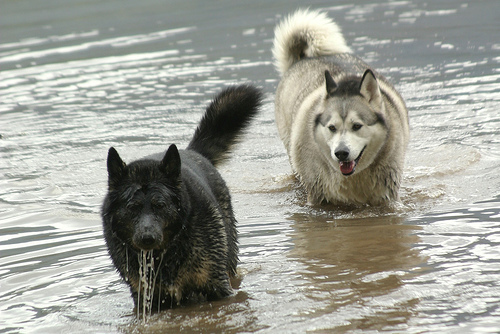dog: (100, 84, 268, 314), (272, 4, 411, 212)
